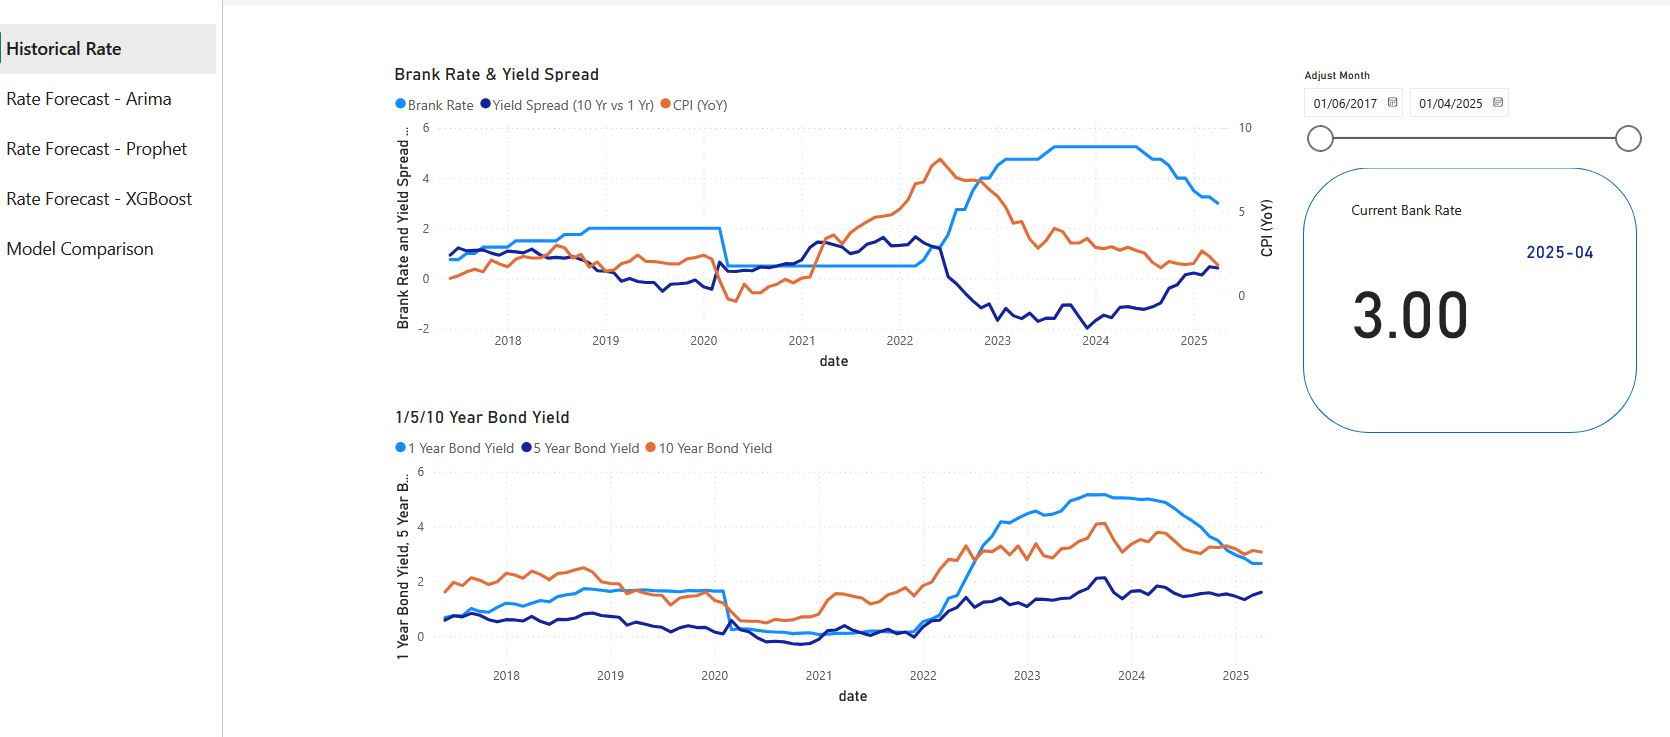

Layout of this report page (visuals, bound fields, positions):
{"tool":"powerbi","page":{"name":"Historical Rate","canvas":[1280,720],"ordinal":0},"visuals":[{"type":"lineChart","title":"Brank Rate & Yield Spread","fields":{"Y":["Sum(rate_hist.Brank Rate)","rate_hist.Yield Spread"],"Category":["rate_hist.date"],"Y2":["Sum(rate_hist.cpi_yoy)"]},"box":[49.1,55.2,856.4,299.4],"z":0},{"type":"slicer","fields":{"Values":["rate_hist.date"]},"box":[915.3,54.9,345.8,87.8],"z":1000},{"type":"lineChart","title":"1/5/10 Year Bond Yield","fields":{"Category":["rate_hist.date"],"Y":["Sum(rate_hist.bond_yield_1_yr)","Sum(rate_hist.bond_yield_5_yr)","Sum(rate_hist.bond_yield_10_yr)"]},"box":[49.1,385.3,856.4,290.8],"z":2000},{"type":"shape","box":[927.6,156.4,321.1,255.2],"z":2500},{"type":"card","fields":{"Values":["rate_hist.Current Rate"]},"box":[950.9,225,161.9,129],"z":3000},{"type":"card","fields":{"Values":["rate_hist.Current Month"]},"box":[1113.2,192.3,124.3,91.9],"z":4000},{"type":"textbox","box":[968.5,182.1,144.7,42.6],"z":5000}]}

Visuals, with their boxes on the page's 1280x720 design canvas (x1, y1, x2, y2). These are canvas units, not pixel positions in the 1670x737 screenshot, which may show the page scaled, cropped or inside an application window:
"Brank Rate & Yield Spread" lineChart: x1=49 y1=55 x2=906 y2=355
slicer - rate_hist.date: x1=915 y1=55 x2=1261 y2=143
"1/5/10 Year Bond Yield" lineChart: x1=49 y1=385 x2=906 y2=676
shape: x1=928 y1=156 x2=1249 y2=412
card - rate_hist.Current Rate: x1=951 y1=225 x2=1113 y2=354
card - rate_hist.Current Month: x1=1113 y1=192 x2=1238 y2=284
textbox: x1=968 y1=182 x2=1113 y2=225
